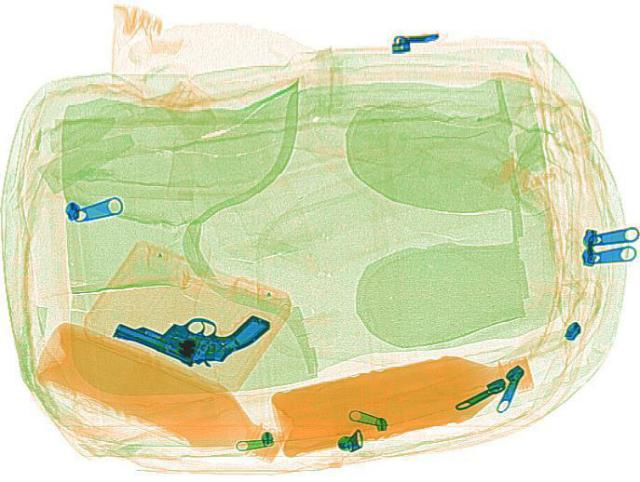Gun: (110, 310, 270, 365)
